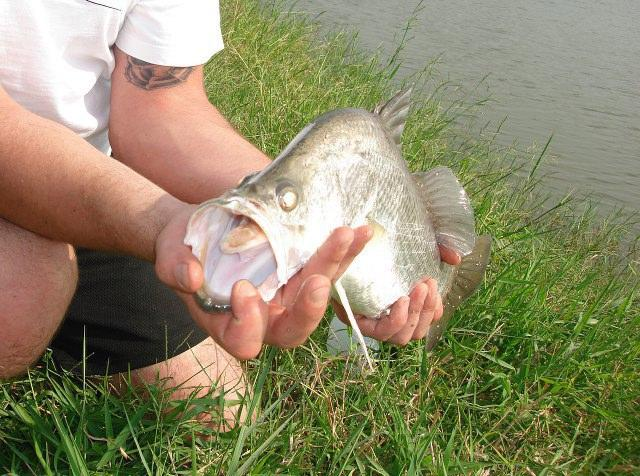Mulut: (158, 179, 300, 329)
Sirip Dada: (322, 255, 380, 388)
Sirip Ekor: (418, 222, 500, 378)
Sirip Punggung: (358, 74, 484, 270)
